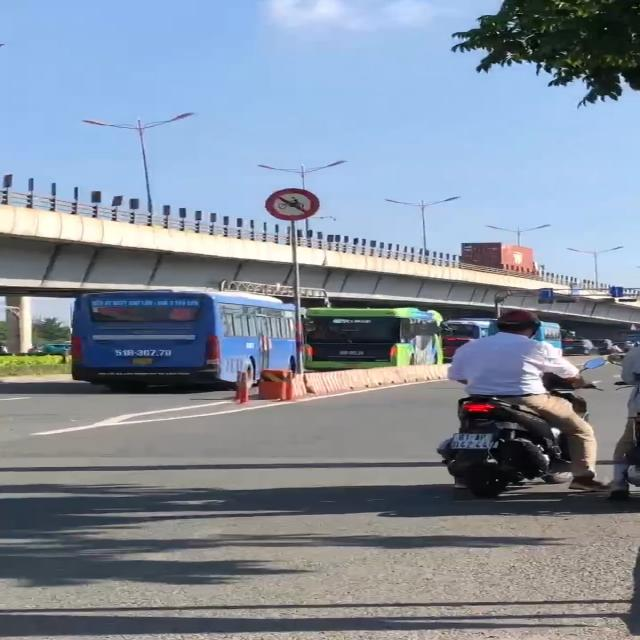Bien bao cam xe may: (259, 185, 326, 223)
